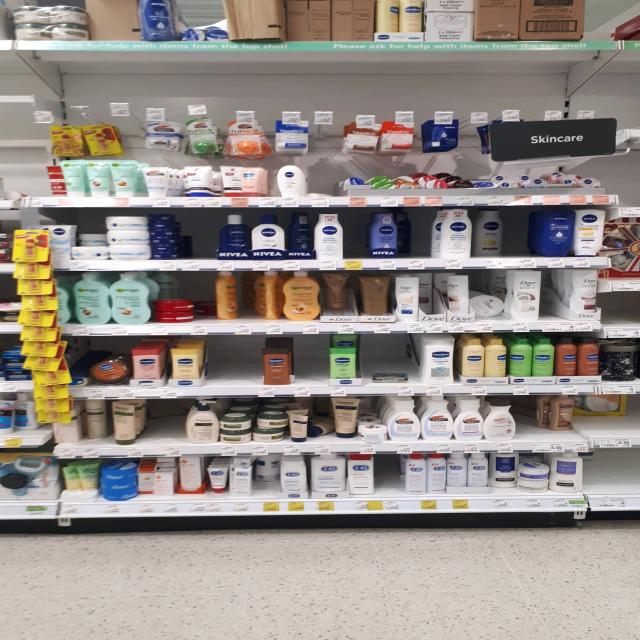empty: (577, 442, 640, 499), (198, 337, 264, 388), (135, 401, 190, 450), (366, 332, 417, 382), (284, 336, 332, 384), (602, 287, 640, 340), (536, 266, 570, 324), (178, 222, 219, 265), (499, 210, 532, 262), (375, 456, 407, 507)
